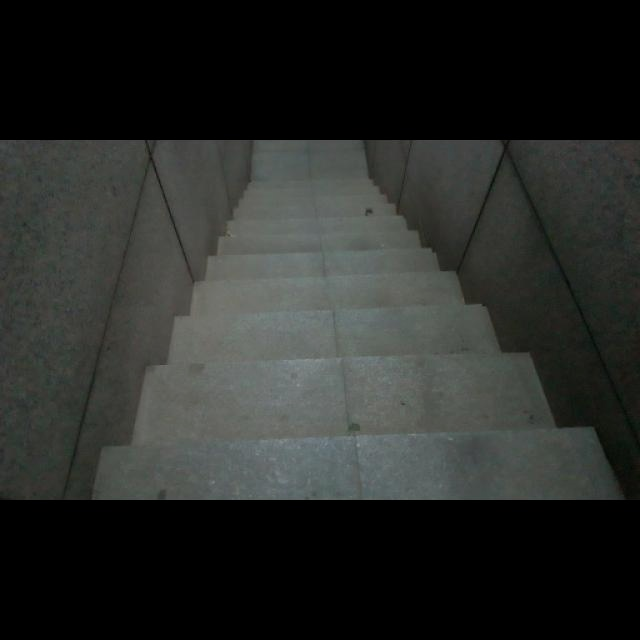stair: (127, 152, 458, 493)
